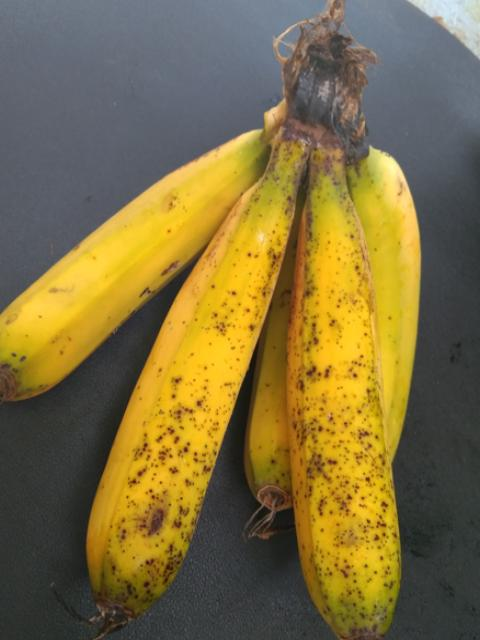ripe: (58, 197, 299, 639), (274, 163, 418, 639), (0, 138, 250, 394)
